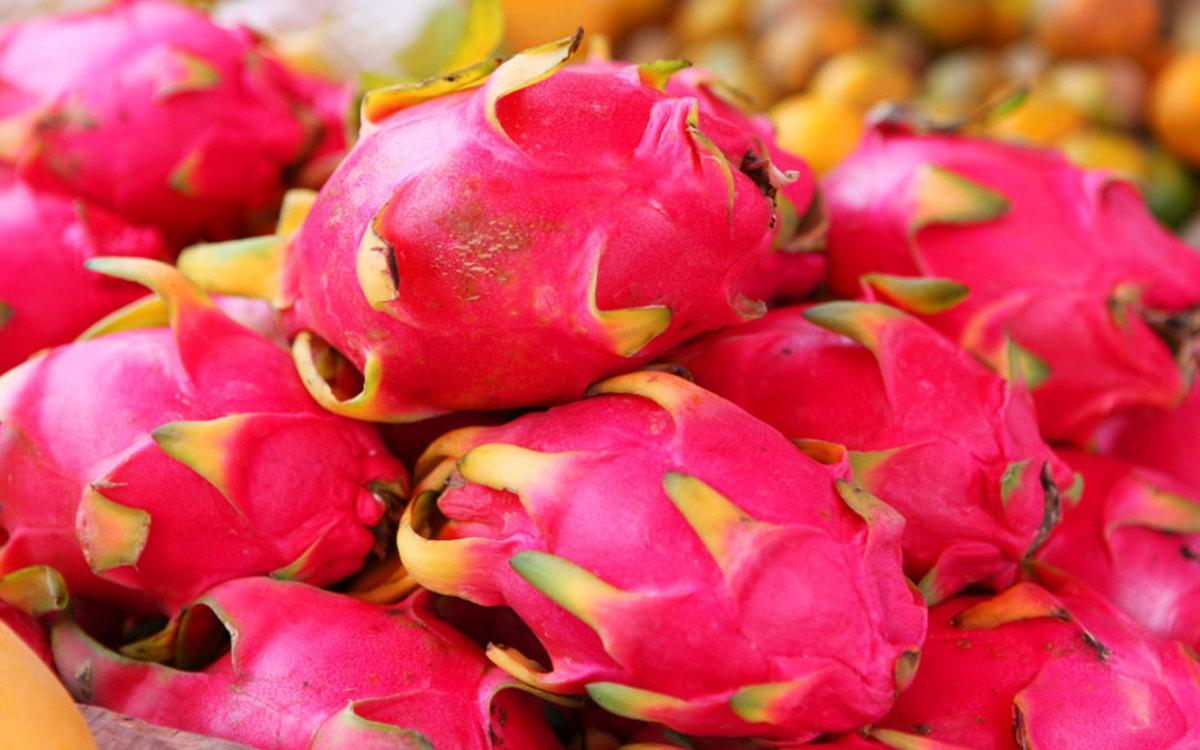dragon-fruit: (279, 64, 782, 415), (431, 389, 931, 742), (816, 129, 1200, 444), (663, 296, 1052, 596), (0, 320, 379, 620), (0, 0, 356, 237), (170, 599, 569, 750), (858, 592, 1200, 750), (1025, 445, 1200, 662), (0, 163, 177, 377)
